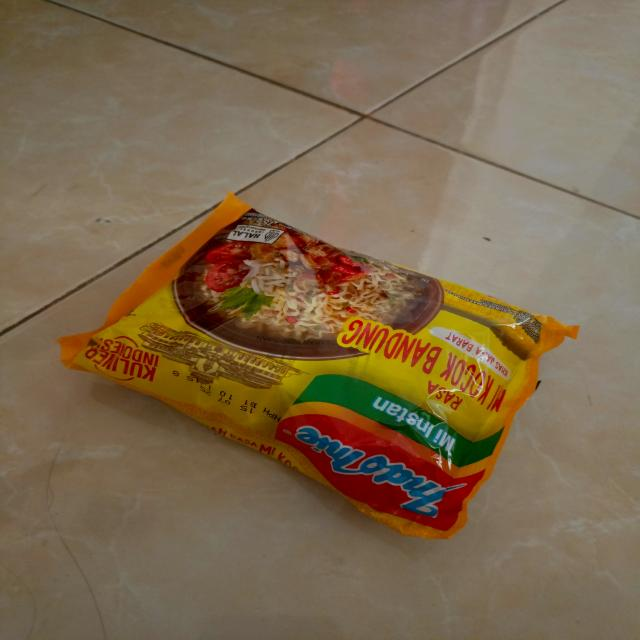indomie-mie-kocok-bandung: (56, 193, 580, 539)
